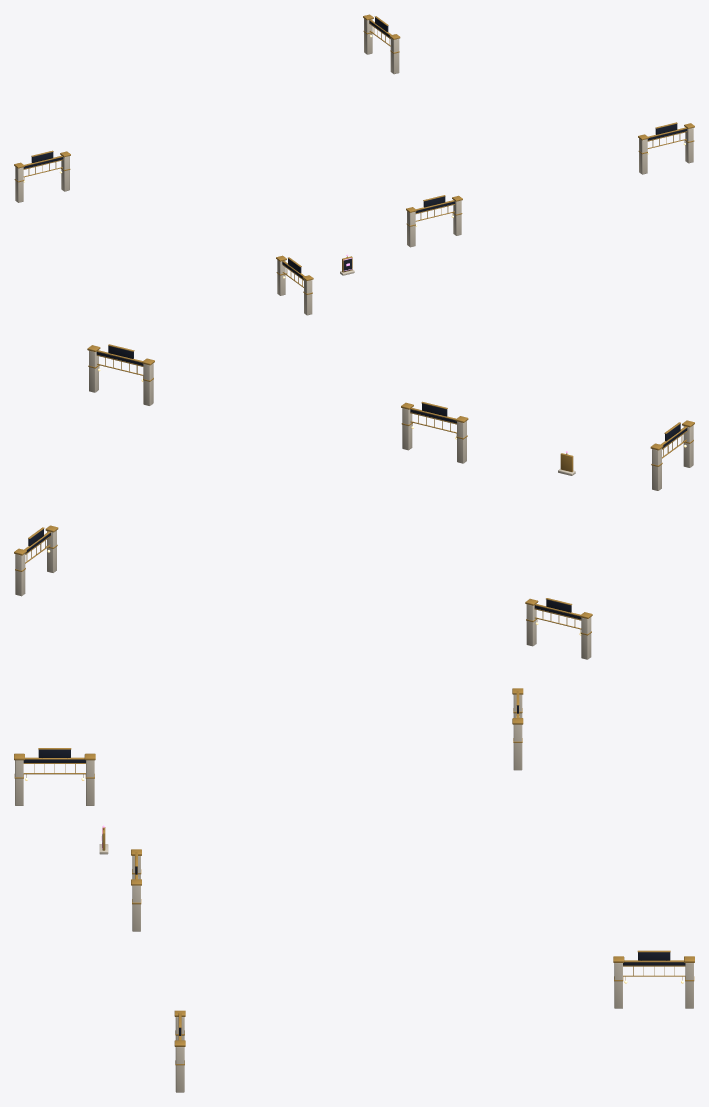
File: kiosks.glb
The picture shows the model from 3 angles, top to bottom: view 1: azimuth 30°, elevation 25°; view 2: azimuth 150°, elevation 25°; view 3: azimuth 270°, elevation 25°; orthographic projection. The views are drawn at different scales.
Visible parts, largest first — view 1: gate_experience_frame, gate_research_frame, gate_education_frame, gate_projects_frame, gate_contact_frame; view 2: gate_education_frame, gate_research_frame, gate_experience_frame, gate_projects_frame, gate_contact_frame; view 3: gate_projects_frame, gate_contact_frame, gate_education_frame, gate_research_frame, gate_experience_frame.
Boxes of the visible parts, <box> form: gate_experience_frame: <box>406,195,462,247</box>; gate_research_frame: <box>638,122,694,174</box>; gate_education_frame: <box>14,150,70,202</box>; gate_projects_frame: <box>363,14,400,74</box>; gate_contact_frame: <box>276,255,313,315</box>; gate_education_frame: <box>525,598,592,659</box>; gate_research_frame: <box>87,344,154,405</box>; gate_experience_frame: <box>401,401,468,463</box>; gate_projects_frame: <box>14,525,58,596</box>; gate_contact_frame: <box>650,420,694,490</box>; gate_projects_frame: <box>613,950,694,1008</box>; gate_contact_frame: <box>14,748,95,805</box>; gate_education_frame: <box>512,688,523,770</box>; gate_research_frame: <box>174,1010,185,1092</box>; gate_experience_frame: <box>131,849,141,931</box>.
Size of the model in its own units: 155 by 11.36 by 125.
